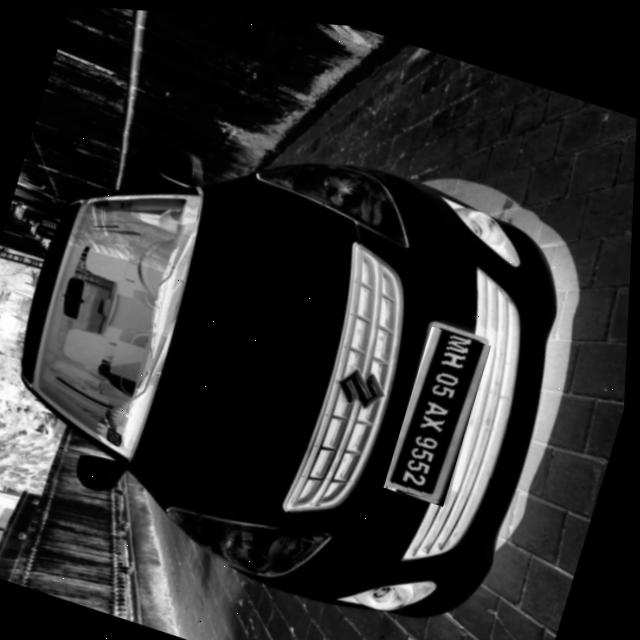Non_registered: (387, 316, 494, 501)
